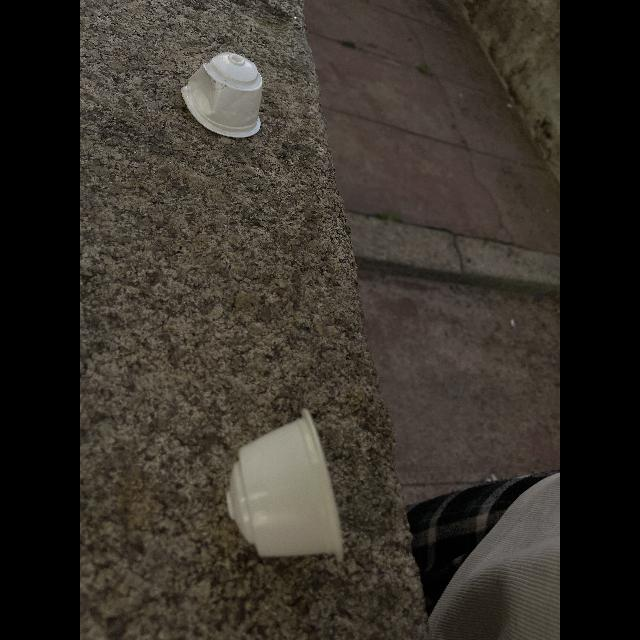damaged_capsule: (176, 44, 278, 146)
intact_capsule: (214, 398, 360, 574)
